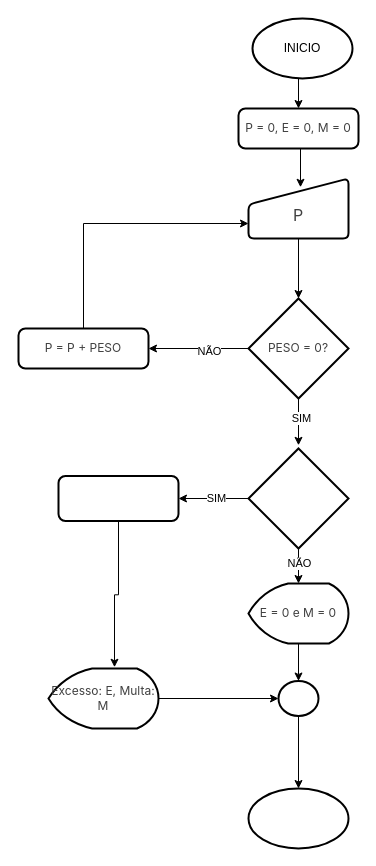
The diagram is 376 pixels wide and 866 high, and some of its shapes have lost their labels. Here are the shapes that lost their labels. From the top down, the centre of each, then its label:
At point (118, 498): "E = P - 50, M = E * 4".
At point (298, 498): "P > 50?".
At point (298, 818): "FIM".
